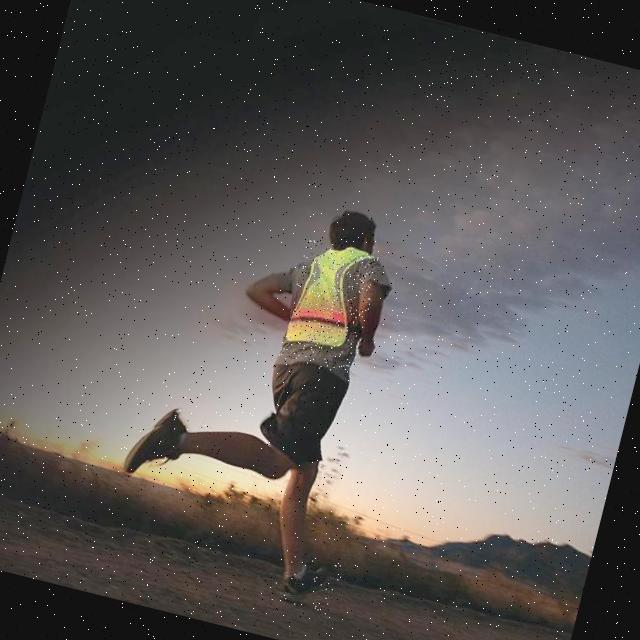vest: (277, 238, 382, 378)
